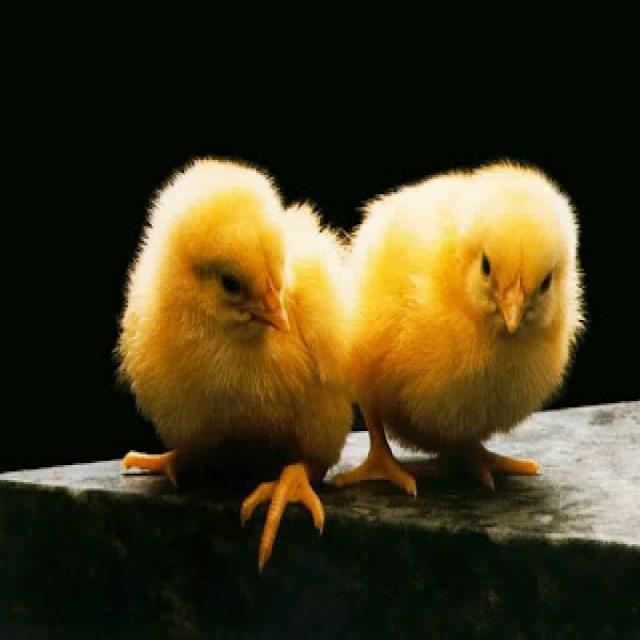poussin: (115, 160, 350, 550), (340, 159, 588, 506)
